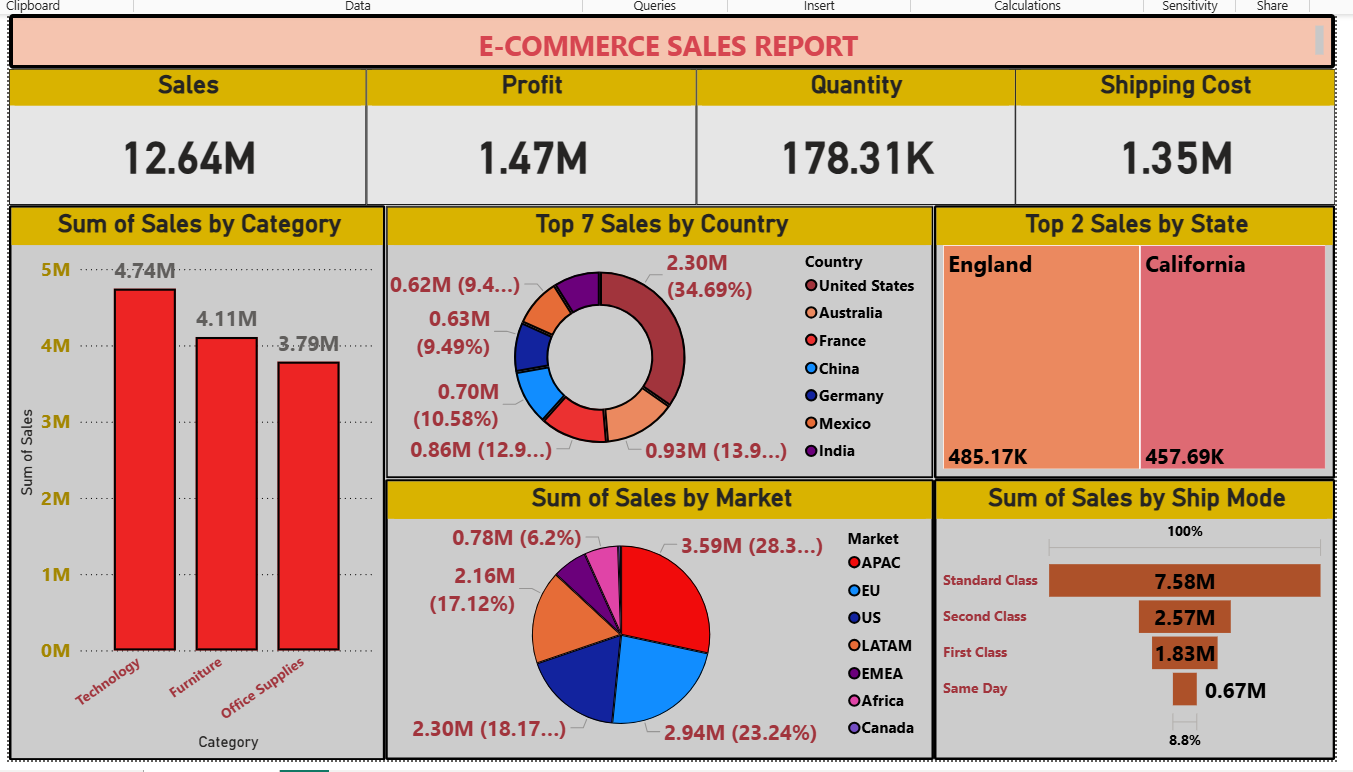

Layout of this report page (visuals, bound fields, positions):
{"tool":"powerbi","page":{"name":"Sales Report","canvas":[1280,720],"ordinal":0},"visuals":[{"type":"columnChart","fields":{"Category":["Orders.Category"],"Y":["Sum(Orders.Sales)"]},"box":[0,184.6,363.1,535.7],"z":0},{"type":"pieChart","fields":{"Category":["Orders.Market"],"Y":["Sum(Orders.Sales)"]},"box":[363.1,448.8,529.6,271.4],"z":1000},{"type":"funnel","fields":{"Category":["Orders.Ship Mode"],"Y":["Sum(Orders.Sales)"]},"box":[892.8,448.8,387.3,271.4],"z":2000},{"type":"donutChart","title":"Top 7 Sales by Country","fields":{"Category":["Orders.Country"],"Y":["Sum(Orders.Sales)"]},"box":[363.1,184.6,529.6,264.2],"z":3000},{"type":"treemap","title":"Top 2 Sales by State","fields":{"Group":["Orders.State"],"Values":["Sum(Orders.Sales)"]},"box":[892.8,184.6,387.3,264.2],"z":4000},{"type":"card","title":"Sales","fields":{"Values":["Sum(Orders.Sales)"]},"box":[0,53.1,345,131.5],"z":5000},{"type":"card","title":"Profit","fields":{"Values":["Sum(Orders.Profit)"]},"box":[345,53.1,318.5,131.5],"z":6000},{"type":"card","title":"Quantity","fields":{"Values":["Sum(Orders.Quantity)"]},"box":[663.5,53.1,307.6,131.5],"z":7000},{"type":"card","title":"Shipping Cost","fields":{"Values":["Sum(Orders.Shipping Cost)"]},"box":[971.2,53.1,308.8,131.5],"z":8000},{"type":"textbox","box":[0,0,1280,53.1],"z":12000}]}

Visuals, with their boxes in screenshot pixels (x1, y1, x2, y2):
columnChart - Orders.Category x Sum(Orders.Sales): (4, 199, 382, 758)
pieChart - Orders.Market x Sum(Orders.Sales): (382, 475, 934, 758)
funnel - Orders.Ship Mode x Sum(Orders.Sales): (934, 475, 1338, 758)
"Top 7 Sales by Country" donutChart: (382, 199, 934, 475)
"Top 2 Sales by State" treemap: (934, 199, 1338, 475)
"Sales" card: (4, 62, 363, 199)
"Profit" card: (363, 62, 695, 199)
"Quantity" card: (695, 62, 1016, 199)
"Shipping Cost" card: (1016, 62, 1338, 199)
textbox: (4, 7, 1338, 62)
